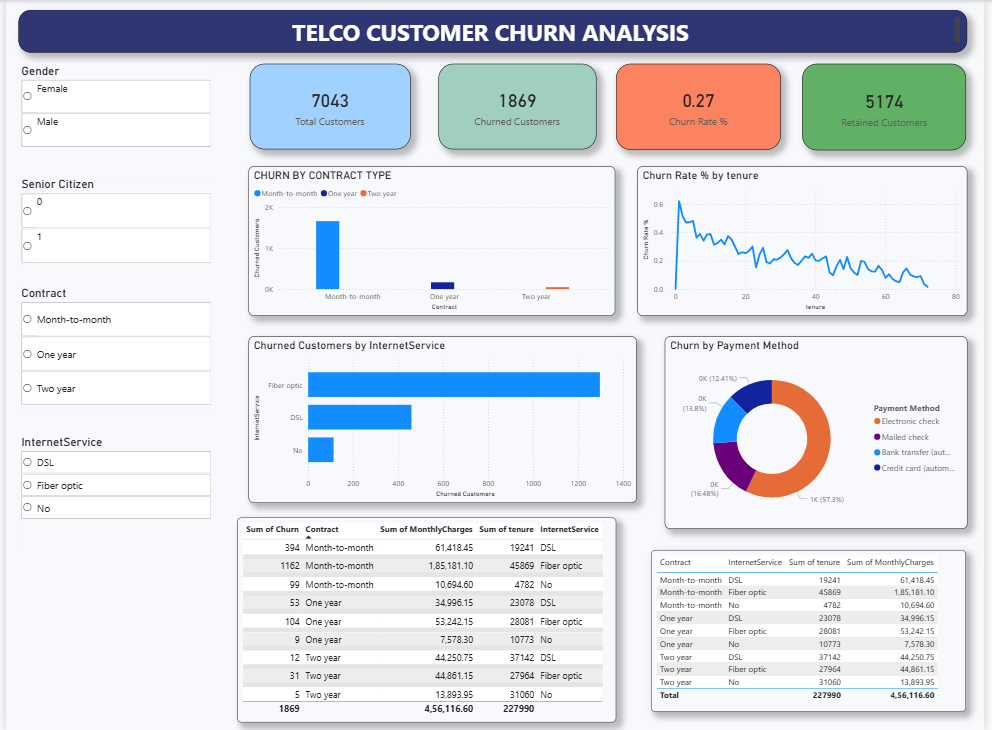

What the dashboard file says about the page in this screenshot:
{"tool":"powerbi","page":{"name":"Page 1","canvas":[1600,1200],"ordinal":0},"visuals":[{"type":"textbox","box":[20.5,16.4,1552.2,69.5],"z":0},{"type":"card","fields":{"Values":["telco_churn_cleaned.Churn Rate %"]},"box":[998,104.3,269.9,141.1],"z":1000},{"type":"card","fields":{"Values":["telco_churn_cleaned.Churned Customers"]},"box":[706.7,105,258.3,140],"z":2000},{"type":"card","fields":{"Values":["telco_churn_cleaned.Retained Customers"]},"box":[1303.3,103.3,268.3,141.7],"z":3000},{"type":"card","fields":{"Values":["telco_churn_cleaned.Total Customers"]},"box":[398.3,105,263.3,140],"z":4000},{"type":"clusteredColumnChart","title":"CHURN BY CONTRACT TYPE","fields":{"Category":["telco_churn_cleaned.Contract"],"Series":["telco_churn_cleaned.Contract"],"Y":["telco_churn_cleaned.Churned Customers"]},"box":[397.5,272.5,600,245],"z":5000},{"type":"barChart","fields":{"Y":["telco_churn_cleaned.Churned Customers"],"Category":["telco_churn_cleaned.InternetService"]},"box":[397.5,550,635,272.5],"z":6000},{"type":"lineChart","fields":{"Category":["telco_churn_cleaned.tenure"],"Y":["telco_churn_cleaned.Churn Rate %"]},"box":[1032.5,272.5,540,245],"z":7000},{"type":"donutChart","title":"Churn by Payment Method","fields":{"Category":["telco_churn_cleaned.PaymentMethod"],"Y":["telco_churn_cleaned.Churned Customers"]},"box":[1077.5,550,495,315],"z":8000},{"type":"listSlicer","title":"Gender","fields":{"Values":["telco_churn_cleaned.gender"]},"box":[20,103.3,320,141.7],"z":9000},{"type":"listSlicer","title":"Senior Citizen","fields":{"Values":["telco_churn_cleaned.SeniorCitizen"]},"box":[20,290,320,145],"z":10000},{"type":"listSlicer","fields":{"Values":["telco_churn_cleaned.Contract"]},"box":[20,467.5,320,200],"z":11000},{"type":"listSlicer","fields":{"Values":["telco_churn_cleaned.InternetService"]},"box":[20,712.5,320,180],"z":12000},{"type":"tableEx","fields":{"Values":["Sum(telco_churn_cleaned.Churn)","telco_churn_cleaned.Contract","Sum(telco_churn_cleaned.MonthlyCharges)","Sum(telco_churn_cleaned.tenure)","telco_churn_cleaned.InternetService"]},"box":[377.5,847.5,620,335],"z":13000},{"type":"tableEx","fields":{"Values":["telco_churn_cleaned.Contract","telco_churn_cleaned.InternetService","Sum(telco_churn_cleaned.tenure)","Sum(telco_churn_cleaned.MonthlyCharges)"]},"box":[1055,900,515,265],"z":14000}]}

Visuals, with their boxes in screenshot pixels (x1, y1, x2, y2), scaled from the page's 1600x1200 canvas onto the 992x730 screenshot:
textbox: left=13, top=10, right=975, bottom=52
card - telco_churn_cleaned.Churn Rate %: left=619, top=63, right=786, bottom=149
card - telco_churn_cleaned.Churned Customers: left=438, top=64, right=598, bottom=149
card - telco_churn_cleaned.Retained Customers: left=808, top=63, right=974, bottom=149
card - telco_churn_cleaned.Total Customers: left=247, top=64, right=410, bottom=149
"CHURN BY CONTRACT TYPE" clusteredColumnChart: left=246, top=166, right=618, bottom=315
barChart - telco_churn_cleaned.Churned Customers x telco_churn_cleaned.InternetService: left=246, top=335, right=640, bottom=500
lineChart - telco_churn_cleaned.tenure x telco_churn_cleaned.Churn Rate %: left=640, top=166, right=975, bottom=315
"Churn by Payment Method" donutChart: left=668, top=335, right=975, bottom=526
"Gender" listSlicer: left=12, top=63, right=211, bottom=149
"Senior Citizen" listSlicer: left=12, top=176, right=211, bottom=265
listSlicer - telco_churn_cleaned.Contract: left=12, top=284, right=211, bottom=406
listSlicer - telco_churn_cleaned.InternetService: left=12, top=433, right=211, bottom=543
tableEx - Sum(telco_churn_cleaned.Churn) x telco_churn_cleaned.Contract: left=234, top=516, right=618, bottom=719
tableEx - telco_churn_cleaned.Contract x telco_churn_cleaned.InternetService: left=654, top=548, right=973, bottom=709
